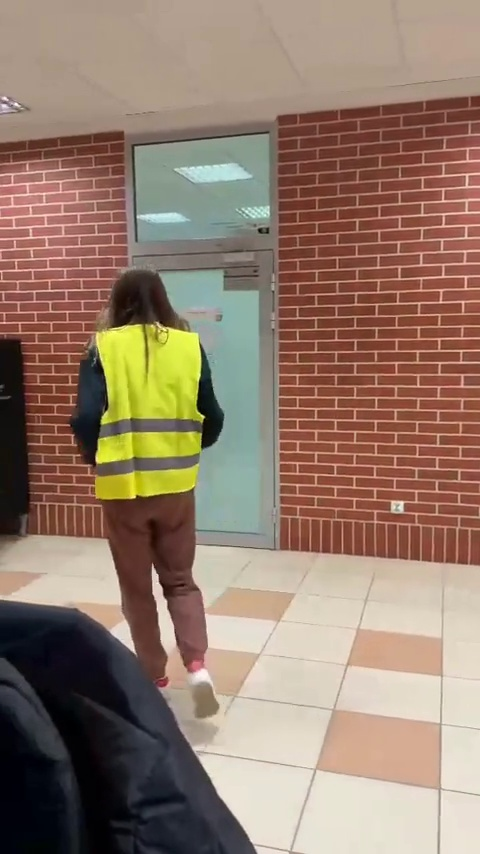vest: (70, 267, 231, 721)
